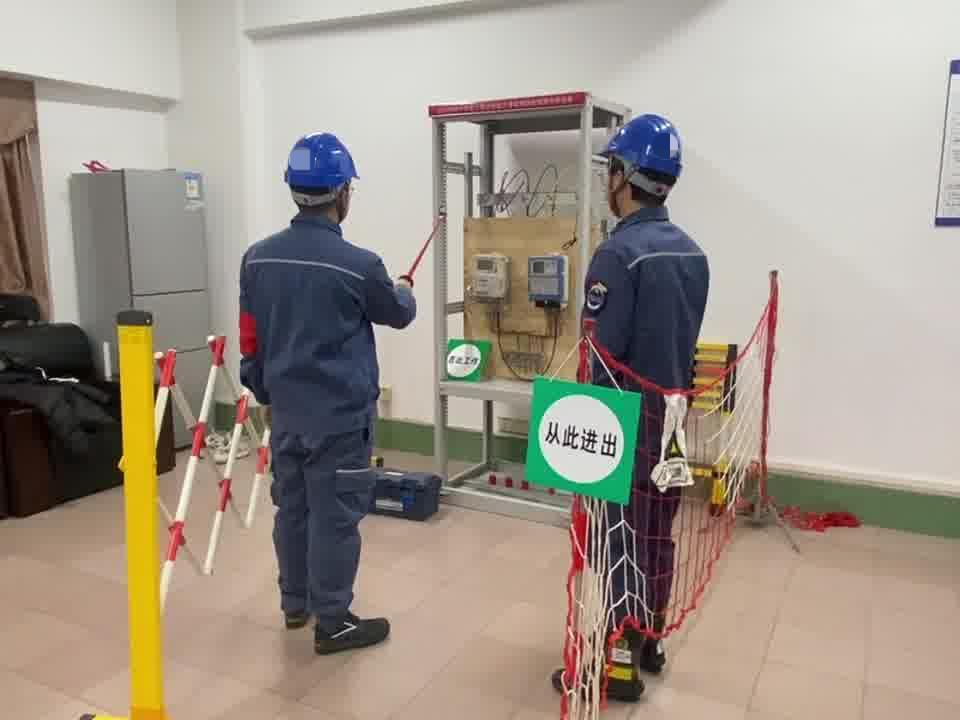halt: (600, 115, 690, 216), (285, 133, 363, 223)
inear: (607, 159, 638, 209), (331, 181, 358, 210)
